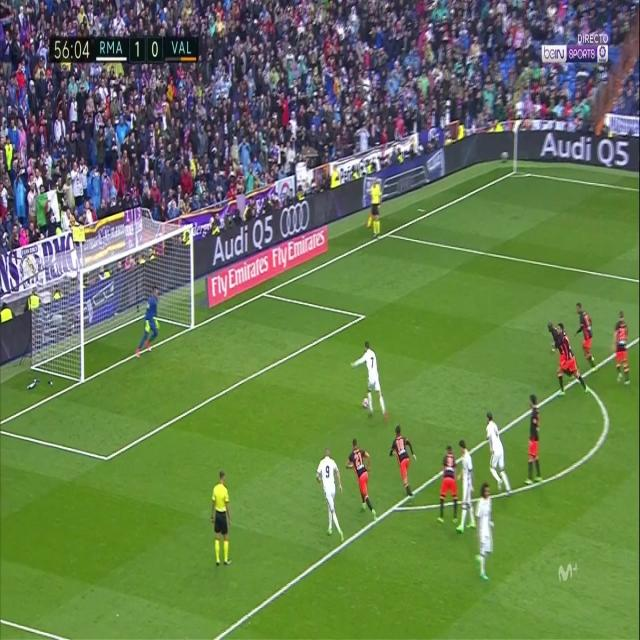Ball: (361, 396, 369, 411)
Goalkeeper: (136, 280, 159, 359)
Player: (314, 449, 347, 546), (351, 337, 386, 423), (345, 436, 377, 524), (484, 408, 514, 500), (388, 422, 418, 503), (558, 322, 588, 398), (457, 435, 476, 536), (436, 444, 459, 527), (610, 309, 634, 388), (525, 394, 545, 486), (476, 484, 494, 585), (573, 302, 599, 369)
Referee: (209, 468, 232, 567), (365, 176, 383, 240)
